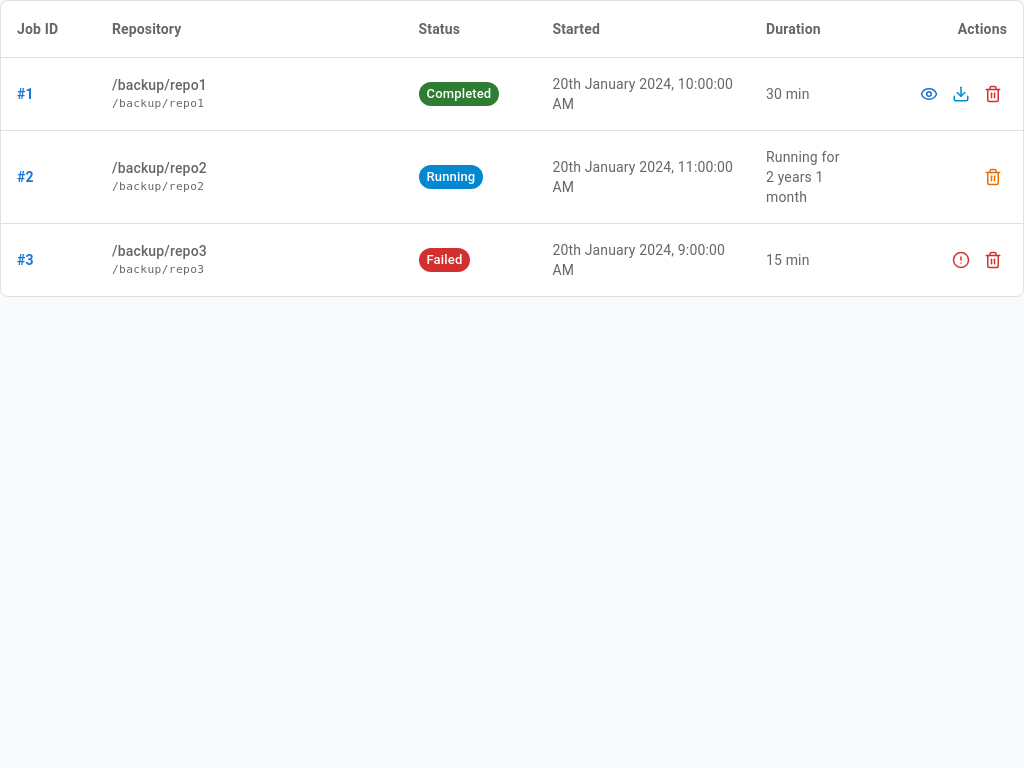
it: BackupJobsTable › Delete Job Action › closes delete dialog when cancel is clicked
// Find delete button - filter to only actual buttons
Click the button named "Delete Job (Admin Only)" in the row of "Completed" at (993, 94), box 979,80 -> 1007,108
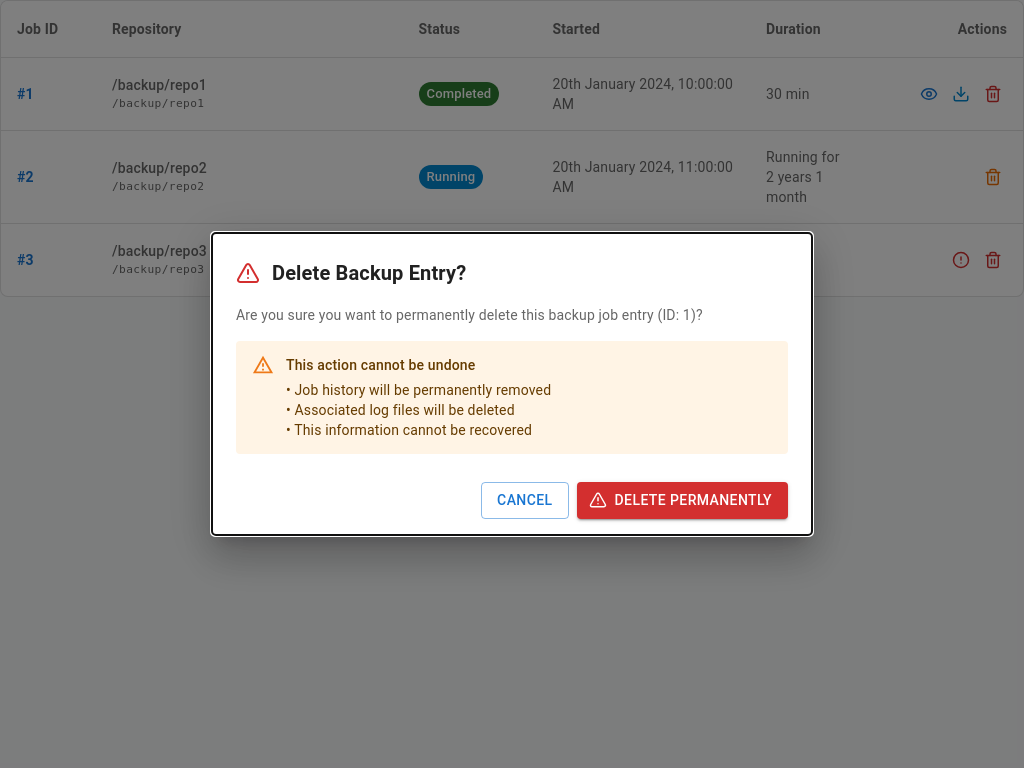
Check: the dialog is shown, box 212,233 -> 812,535
// Click cancel
Click the button "Cancel" at (525, 500), box 481,482 -> 569,519
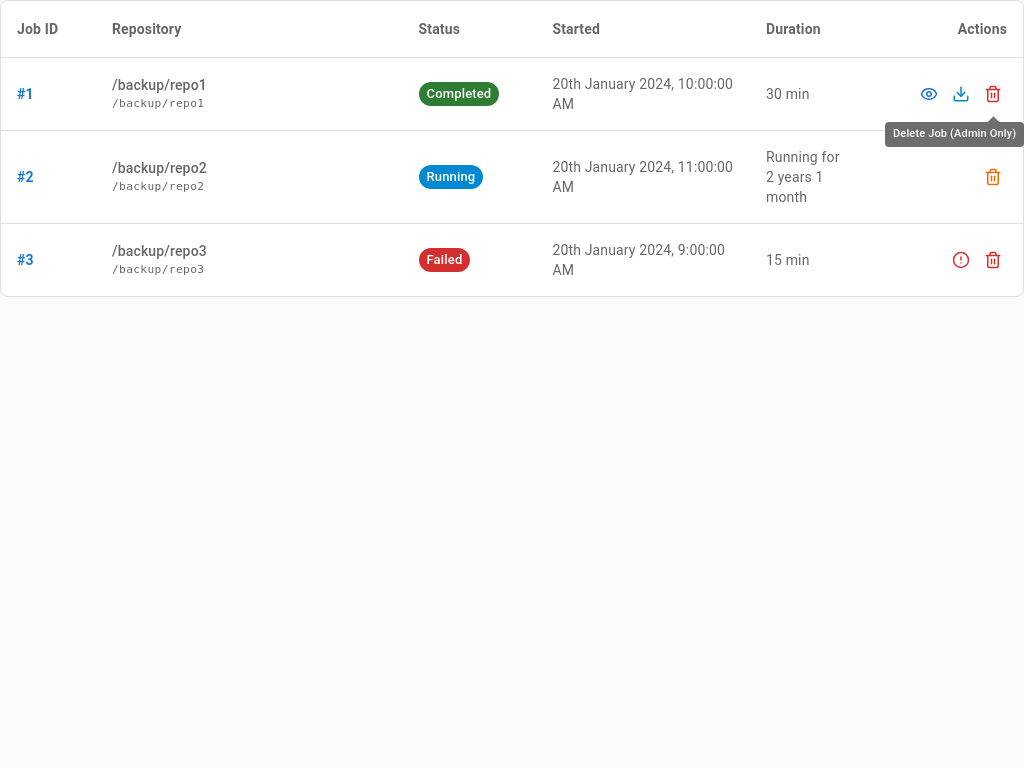
Check: the dialog is gone
